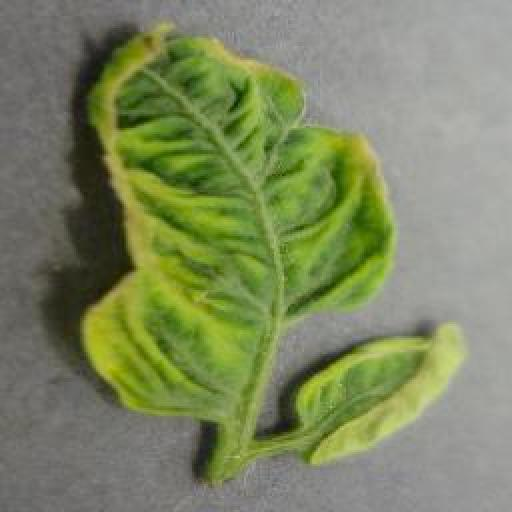disease_tomato: (76, 23, 398, 421), (292, 322, 464, 468)
